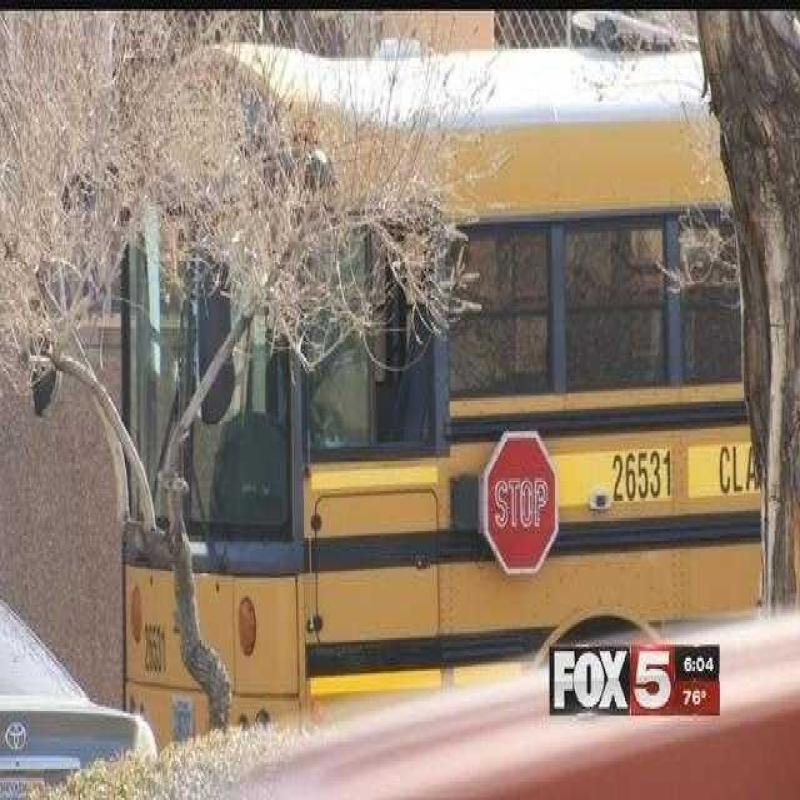bus: (108, 37, 800, 728)
